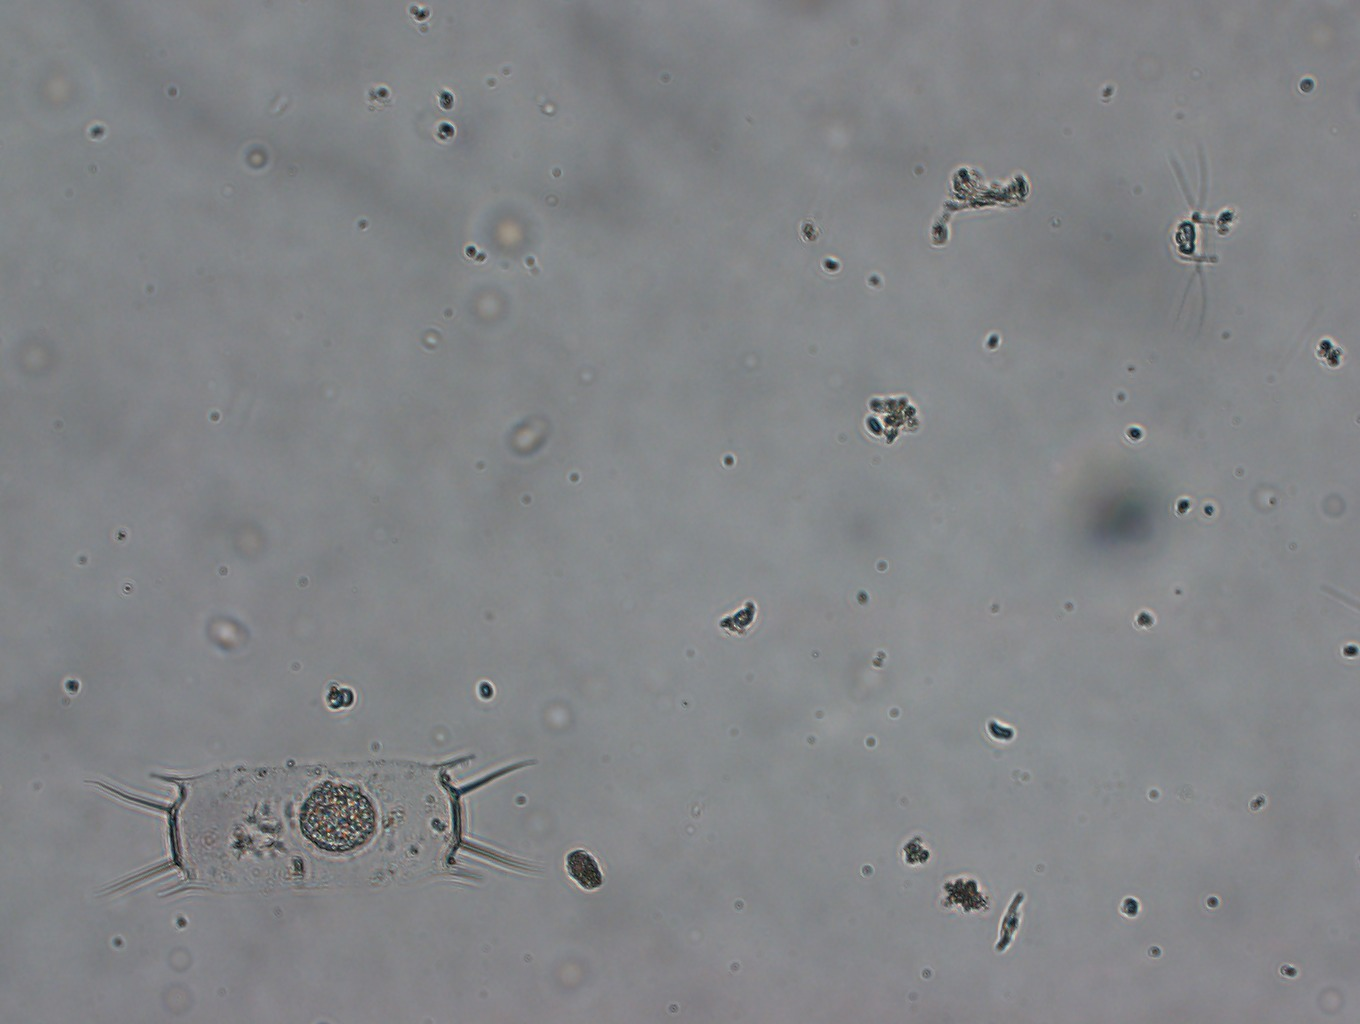biddulphia: (71, 728, 560, 904)
chaetoceros: (1153, 146, 1266, 354)
